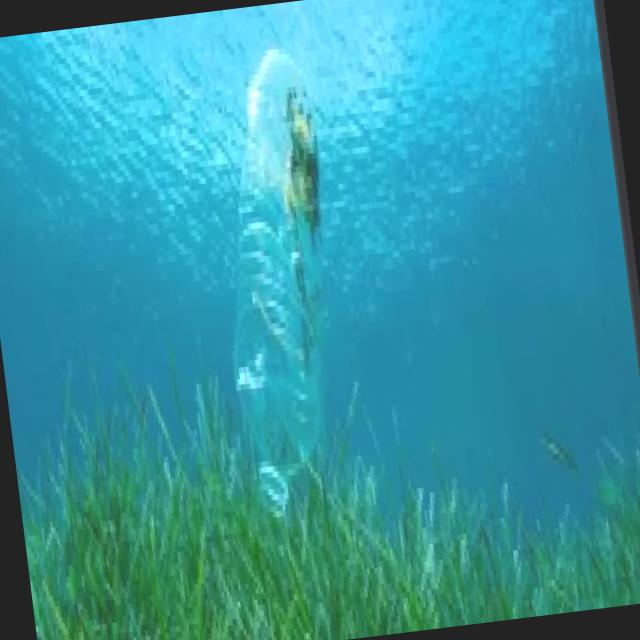Recycle: (193, 40, 364, 529)
